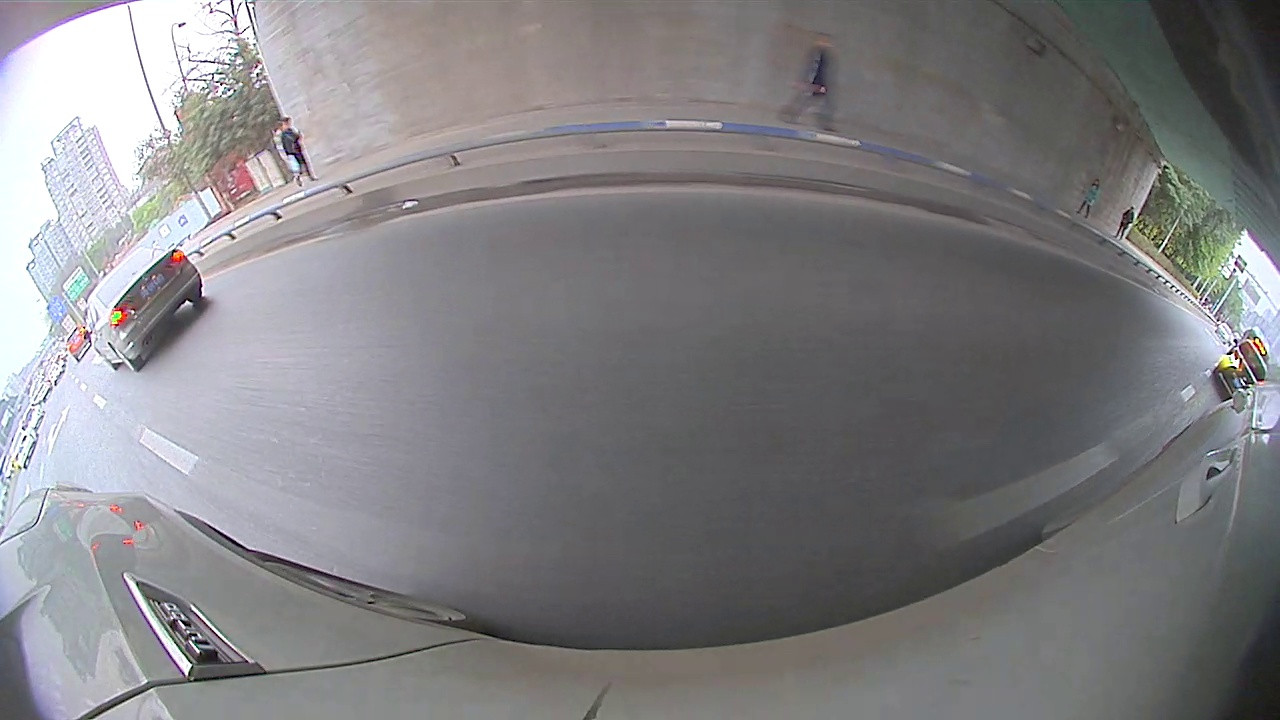car: (643, 54, 1063, 319), (1181, 364, 1254, 461), (1, 330, 52, 396), (83, 224, 136, 277), (1112, 267, 1151, 312), (1165, 319, 1194, 354)
front: (1002, 268, 1053, 317)
rear: (753, 196, 868, 292)
